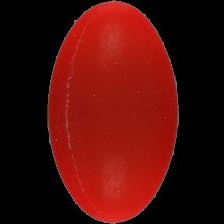0904-6457: (0, 0, 224, 224)
